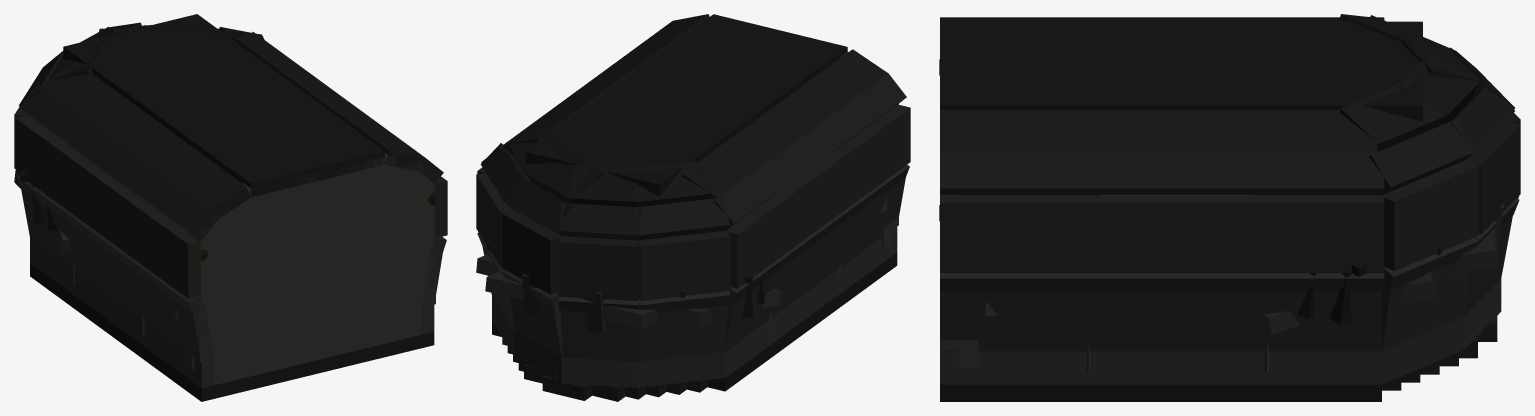
Rendered from jiashicang_v2.gltf.
The picture shows the model from 3 angles, left to right: view 1: azimuth 30°, elevation 25°; view 2: azimuth 150°, elevation 25°; view 3: azimuth 270°, elevation 25°; orthographic projection. The views are drawn at different scales.
Parts seen in each view (by area): view 1: Overhead (×8), Aft Bulkhead (×6), Bulkhead (×7), Base; view 2: Overhead (×13), Bulkhead (×19), Base (×3), Controller (×2), Monitor; view 3: Bulkhead (×11), Overhead (×11), Base, Controller (×3), Monitor.
Boxes of the visible parts, x1,y1,x2,y2 form: Overhead (×8): (19,14,425,240); Aft Bulkhead (×6): (192,153,435,384); Bulkhead (×7): (15,115,447,388); Base: (30,263,434,401); Overhead (×13): (480,14,906,240); Bulkhead (×19): (476,105,910,387); Base (×3): (492,252,897,401); Controller (×2): (476,254,712,329); Monitor: (522,273,606,333); Bulkhead (×11): (940,122,1520,384); Overhead (×11): (940,14,1514,195); Base: (940,384,1381,401); Controller (×3): (1264,227,1498,334); Monitor: (1329,273,1352,324).
Size of the model in its own units: 10.46 by 7.68 by 15.12.
Materials: 1 (1 with a texture image).
